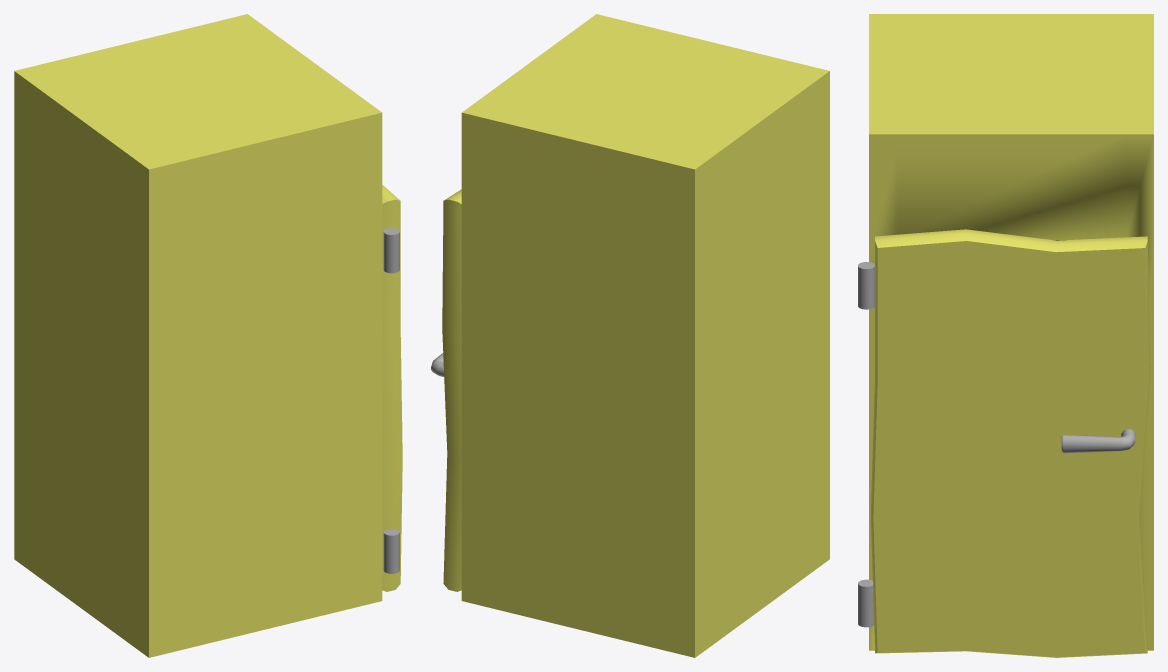
File: Fridge_Closed.fbx
3 renders of one model, left to right at view 1: azimuth 30°, elevation 25°; view 2: azimuth 150°, elevation 25°; view 3: azimuth 270°, elevation 25°, orthographic. The views are drawn at different scales.
Visible parts, largest first — view 1: pCube97, pCube98, pCylinder10, pCylinder9; view 2: pCube97, pCube98; view 3: pCube98, pCube97, pCylinder11, pCylinder10, pCylinder9.
Part boxes in pixels (x1,y1,x2,y2): pCube97: (14, 14, 382, 657); pCube98: (382, 185, 402, 591); pCylinder10: (383, 228, 399, 273); pCylinder9: (383, 529, 399, 573); pCube97: (461, 14, 829, 657); pCube98: (442, 189, 461, 591); pCube98: (871, 229, 1150, 657); pCube97: (869, 14, 1153, 650); pCylinder11: (1061, 429, 1135, 453); pCylinder10: (858, 262, 874, 309); pCylinder9: (858, 579, 874, 627).
Size of the model in its own units: 1193 by 2000 by 1039.
